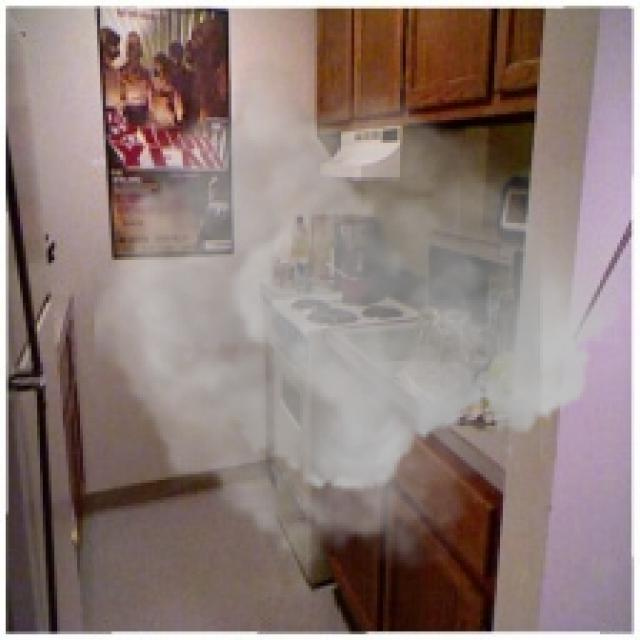Smoke: (94, 57, 632, 589)
